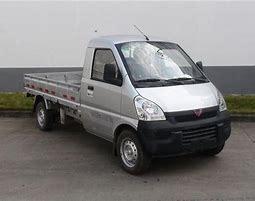smalltruck: (15, 19, 237, 175)
